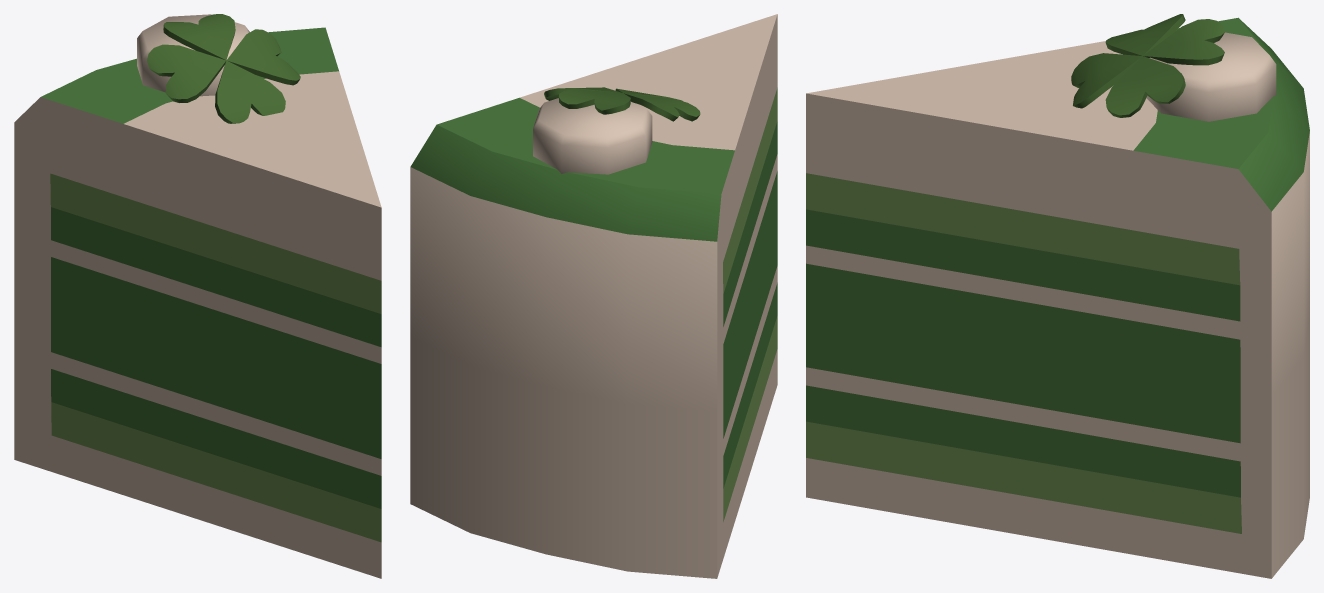
Rendered from ShamrockCake_01.fbx.
The picture shows the model from 3 angles, left to right: view 1: azimuth 30°, elevation 25°; view 2: azimuth 150°, elevation 25°; view 3: azimuth 270°, elevation 25°; orthographic projection. The views are drawn at different scales.
Parts seen in each view (by area): view 1: ShamrockCake_01; view 2: ShamrockCake_01; view 3: ShamrockCake_01.
Part boxes in pixels (bbox=[...]): ShamrockCake_01: bbox=[14, 14, 381, 578]; ShamrockCake_01: bbox=[410, 14, 777, 578]; ShamrockCake_01: bbox=[806, 14, 1309, 578].
Size of the model in its own units: 0.1347 by 0.1779 by 0.176.
